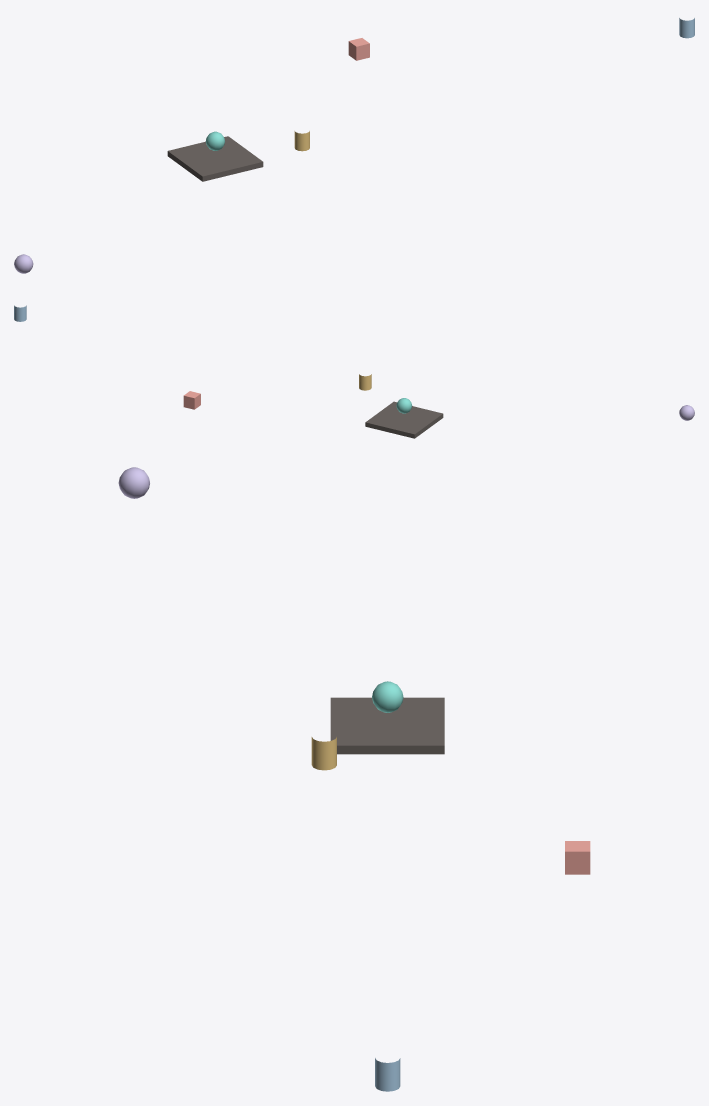
The model's file is solar_system.glb.
3 renders of one model, top to bottom at view 1: azimuth 30°, elevation 25°; view 2: azimuth 150°, elevation 25°; view 3: azimuth 270°, elevation 25°, orthographic. The views are drawn at different scales.
Visible parts, largest first — view 1: base-mount, jupiter-lagrange; view 2: base-mount, jupiter-lagrange; view 3: base-mount.
Part boxes in pixels (bbox=[...]): base-mount: bbox=[167, 136, 263, 181]; jupiter-lagrange: bbox=[348, 38, 369, 60]; base-mount: bbox=[365, 401, 443, 438]; jupiter-lagrange: bbox=[183, 391, 200, 409]; base-mount: bbox=[330, 697, 444, 754].
Bounding box in the file's own units: 2.24 × 0.0825 × 0.745.
